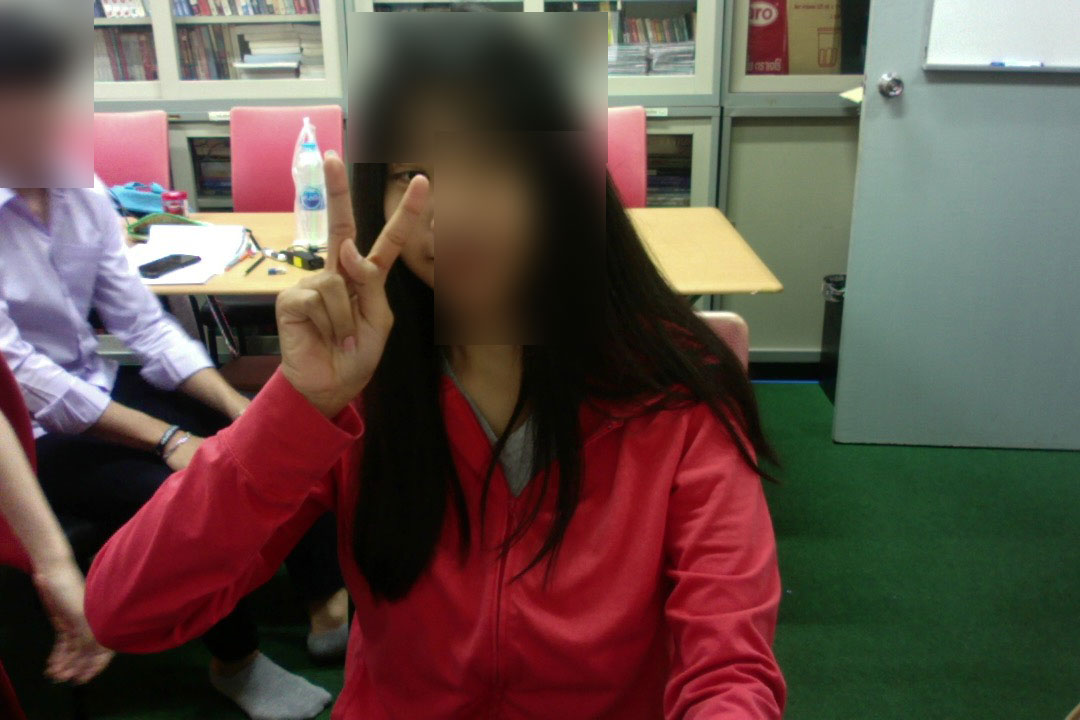ko: (258, 146, 435, 386)
